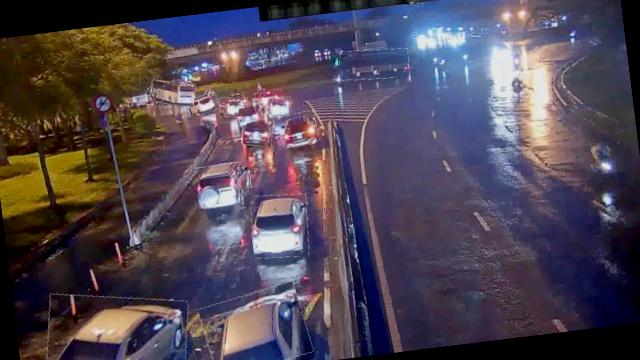Bike: (509, 72, 529, 100), (176, 107, 187, 128)
Bus: (148, 78, 197, 110)
Car: (38, 282, 193, 360), (198, 283, 312, 360), (247, 190, 311, 260), (193, 161, 253, 213), (278, 110, 320, 146), (240, 118, 274, 150), (188, 92, 220, 115), (237, 102, 266, 127), (218, 94, 248, 118), (266, 95, 292, 118)
Truck: (338, 44, 410, 82)
